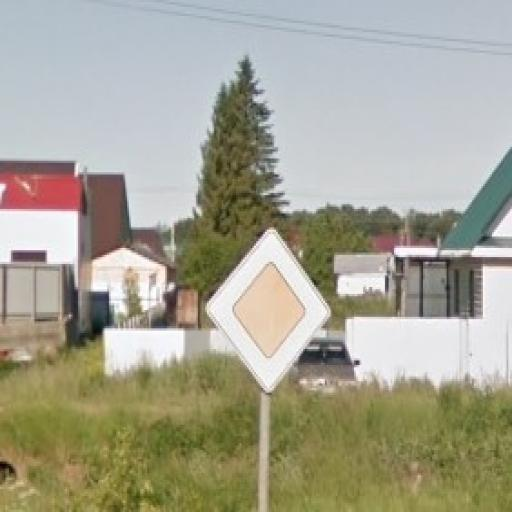traffic_sign: (206, 228, 333, 396)
